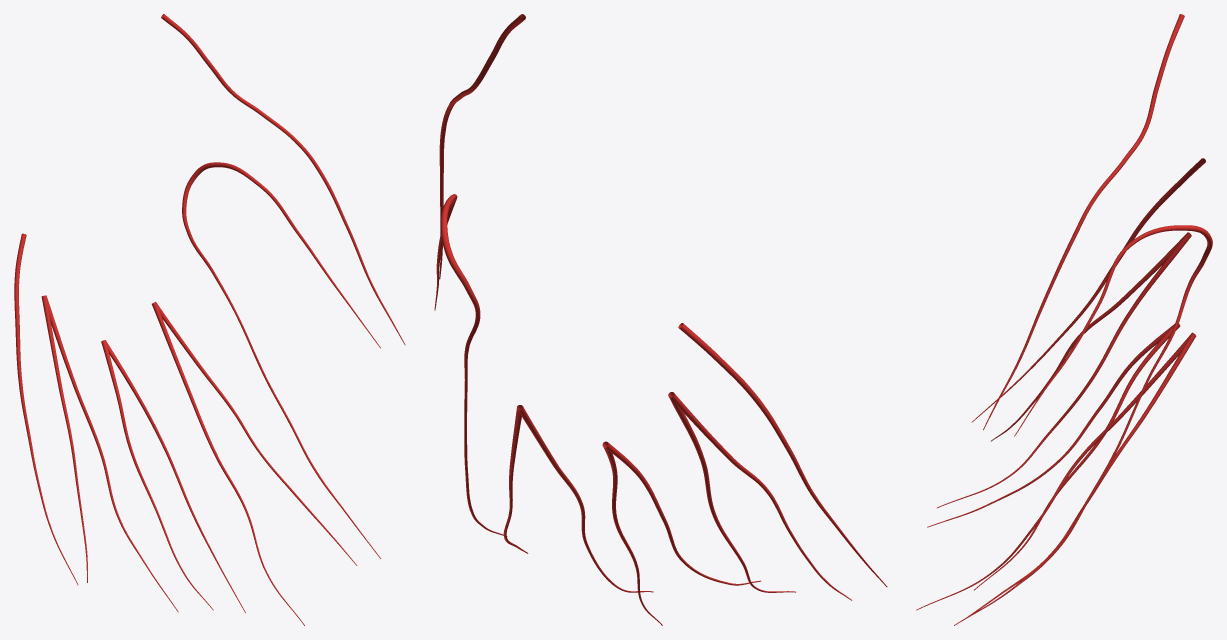
File: circulatorio-dorsal-digital-veins-of-hand-l.glb
3 renders of one model, left to right at view 1: azimuth 30°, elevation 25°; view 2: azimuth 150°, elevation 25°; view 3: azimuth 270°, elevation 25°, orthographic. The views are drawn at different scales.
Parts seen in each view (by area): view 1: Dorsal digital veins of hand.l; view 2: Dorsal digital veins of hand.l; view 3: Dorsal digital veins of hand.l.
Boxes of the visible parts, x1,y1,x2,y2 form: Dorsal digital veins of hand.l: (14, 14, 405, 625); Dorsal digital veins of hand.l: (434, 14, 887, 625); Dorsal digital veins of hand.l: (916, 14, 1212, 625).
Size of the model in its own units: 0.1062 by 0.1592 by 0.0732.
